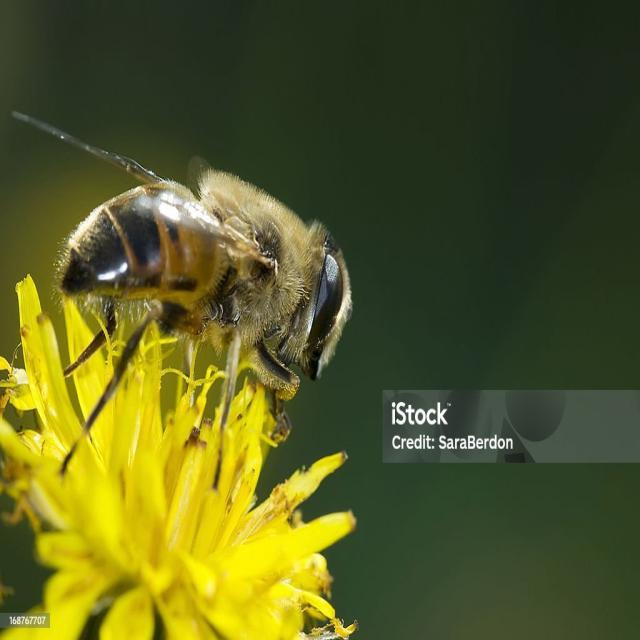bees: (10, 95, 348, 501)
